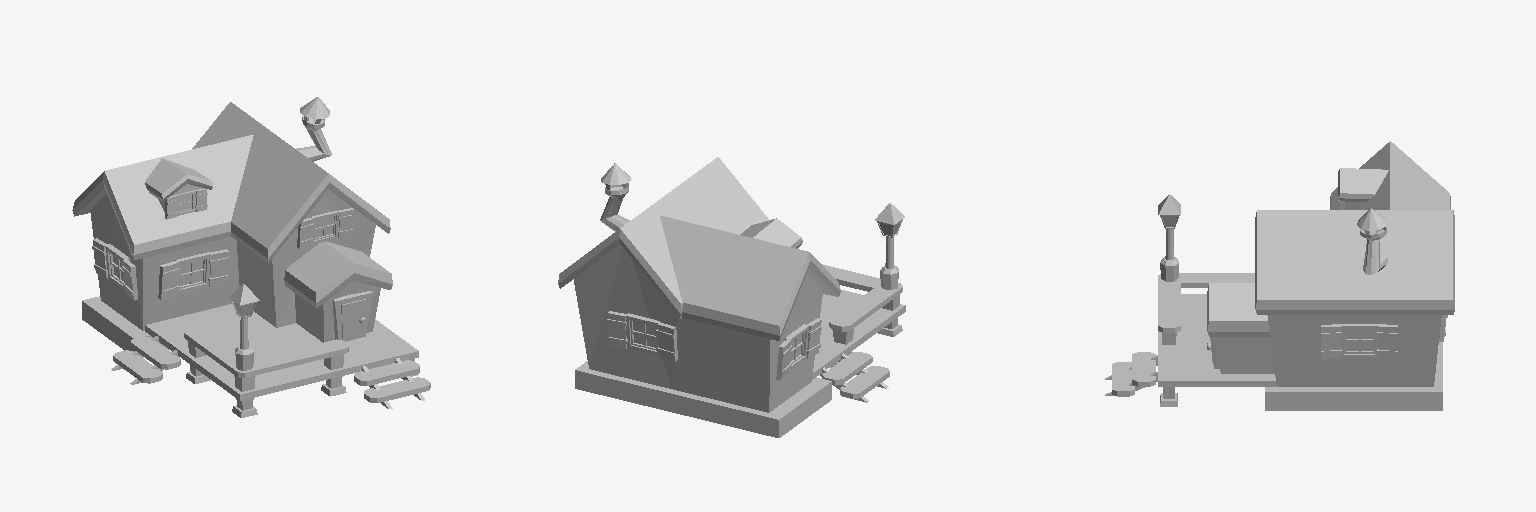
Rendered from House_01.obj.
3 renders of one model, left to right at view 1: azimuth 30°, elevation 25°; view 2: azimuth 150°, elevation 25°; view 3: azimuth 270°, elevation 25°, orthographic.
Visible parts, largest first — view 1: House_01; view 2: House_01; view 3: House_01.
Boxes of the visible parts, x1,y1,x2,y2 form: House_01: [72, 97, 430, 417]; House_01: [558, 157, 905, 437]; House_01: [1105, 141, 1454, 410].
Size of the model in its own units: 483 by 378 by 598.